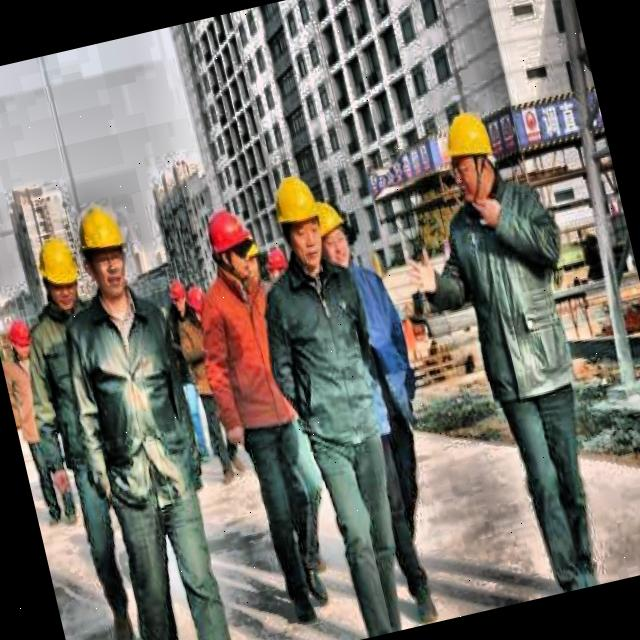helmet: (434, 102, 510, 210), (268, 165, 340, 272), (70, 202, 138, 302), (196, 204, 264, 292), (33, 228, 93, 320), (302, 190, 356, 272), (4, 310, 38, 364), (260, 242, 295, 293), (182, 275, 214, 327), (162, 274, 193, 322)
